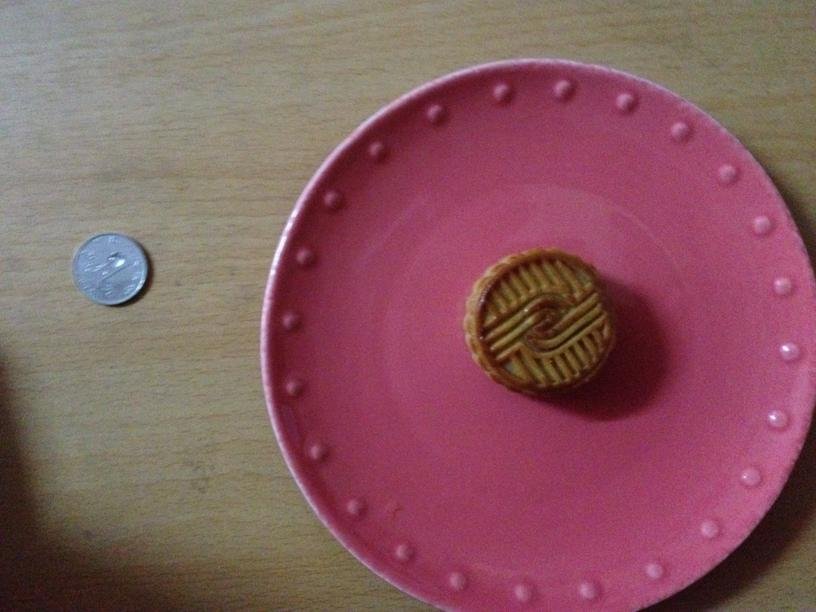coin: (70, 233, 149, 305)
mooncake: (465, 248, 614, 398)
